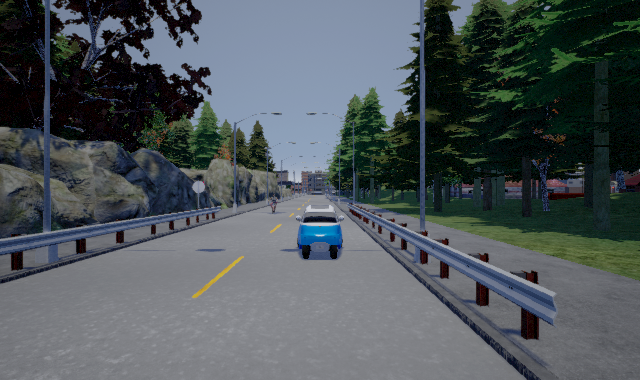bike: (267, 193, 281, 217)
vehicle: (296, 202, 347, 259)
